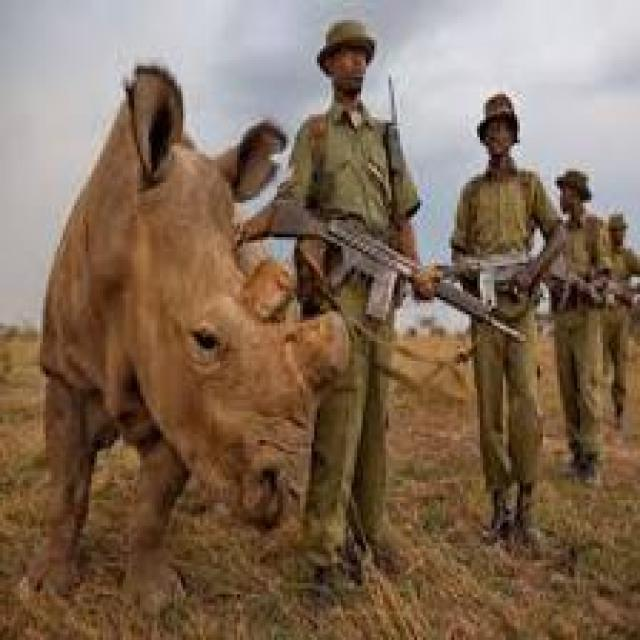Rinoceros: (34, 66, 337, 614)
